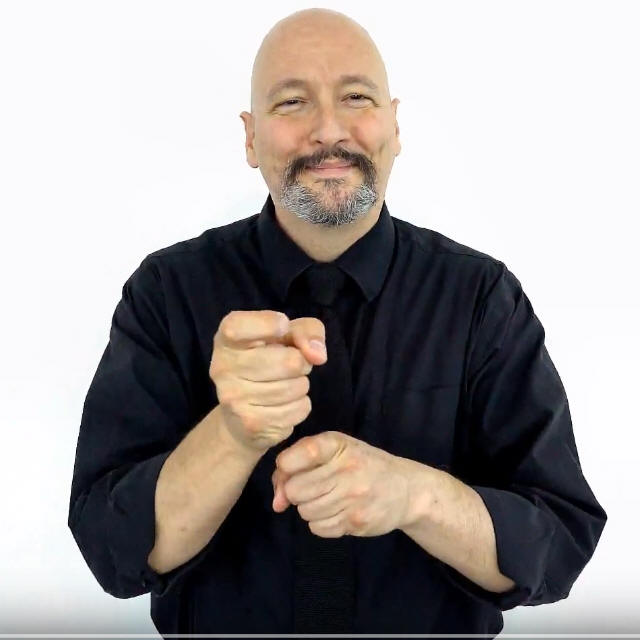joke: (191, 301, 424, 552)
